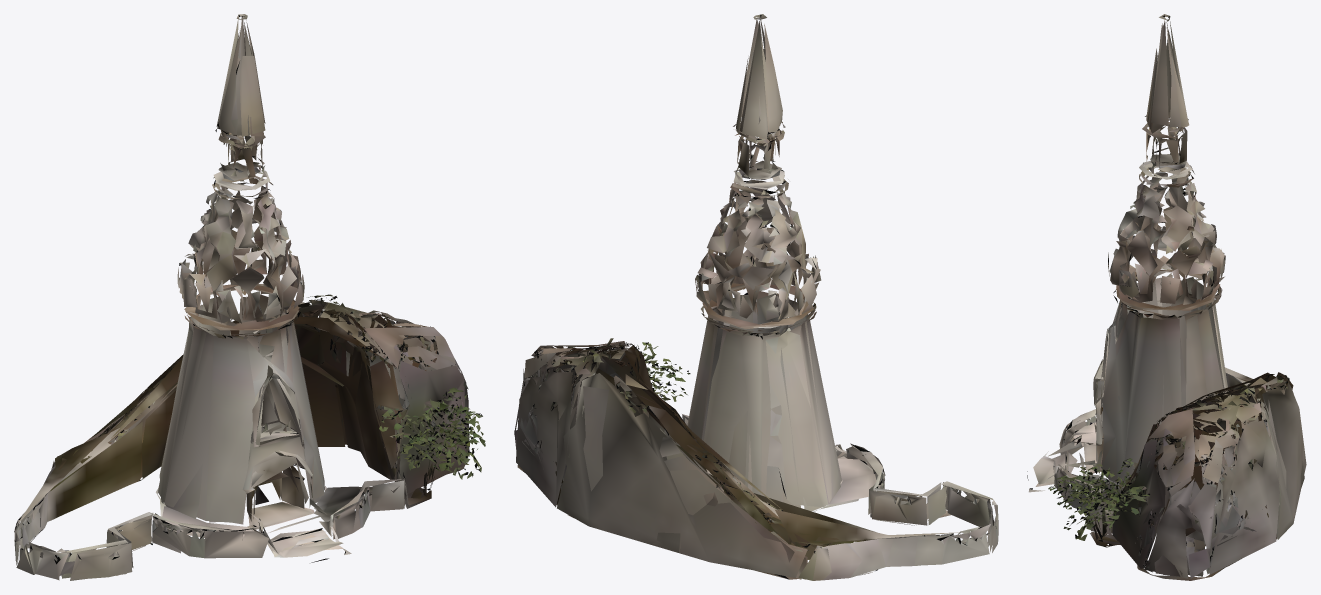
File: utapau-ossic.lo.glb
3 renders of one model, left to right at view 1: azimuth 30°, elevation 25°; view 2: azimuth 150°, elevation 25°; view 3: azimuth 270°, elevation 25°, orthographic. The views are drawn at different scales.
Parts seen in each view (by area): view 1: low; view 2: low; view 3: low.
Boxes of the visible parts, x1,y1,x2,y2 form: low: (14,14,485,580); low: (514,14,998,580); low: (1027,14,1306,580).
Size of the model in its own units: 0.9648 by 0.9891 by 0.5423.
Materials: 1 (1 with a texture image).
